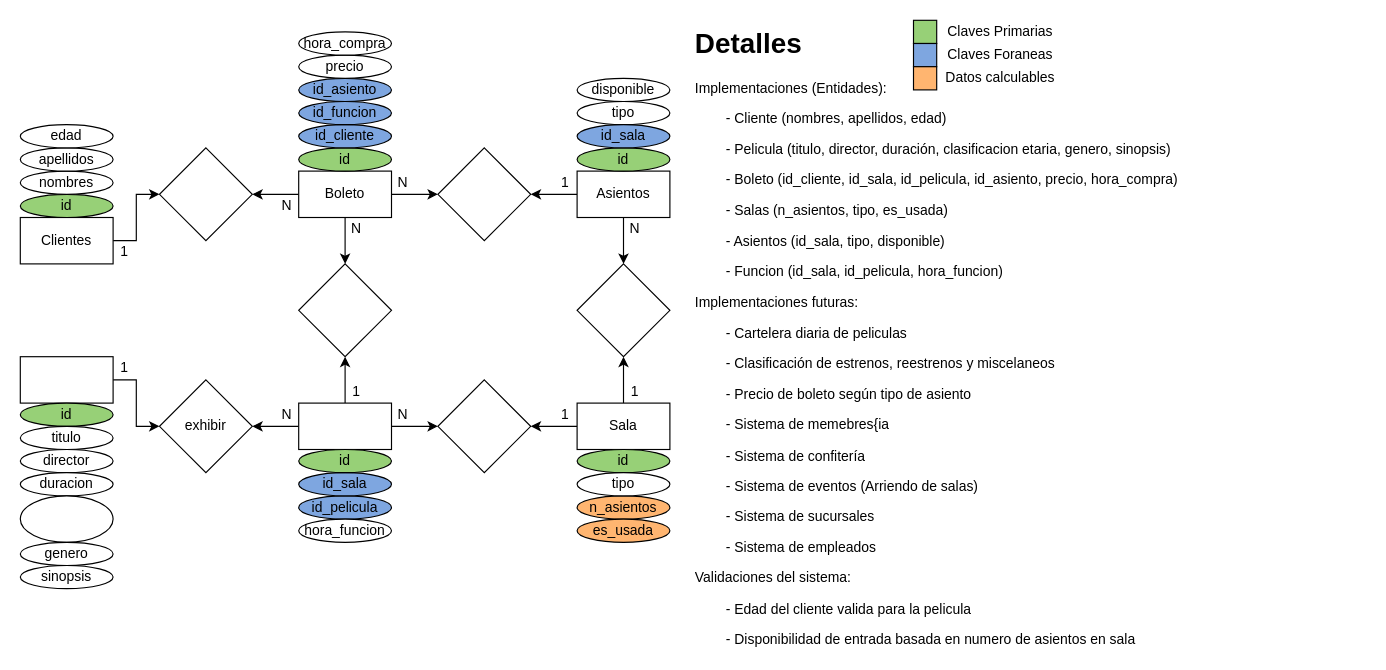
Image size: 1386x670. Some labels were removed from this diagram. Each missing label, with the box of its shape:
asignar: (437, 147, 531, 241)
clasificacion etaria: (19, 495, 113, 542)
comprar: (158, 147, 252, 241)
corresponder: (298, 263, 392, 357)
Función: (298, 402, 392, 449)
ocurrir: (437, 379, 531, 473)
Pelicula: (19, 356, 113, 403)
tener: (576, 263, 670, 357)
